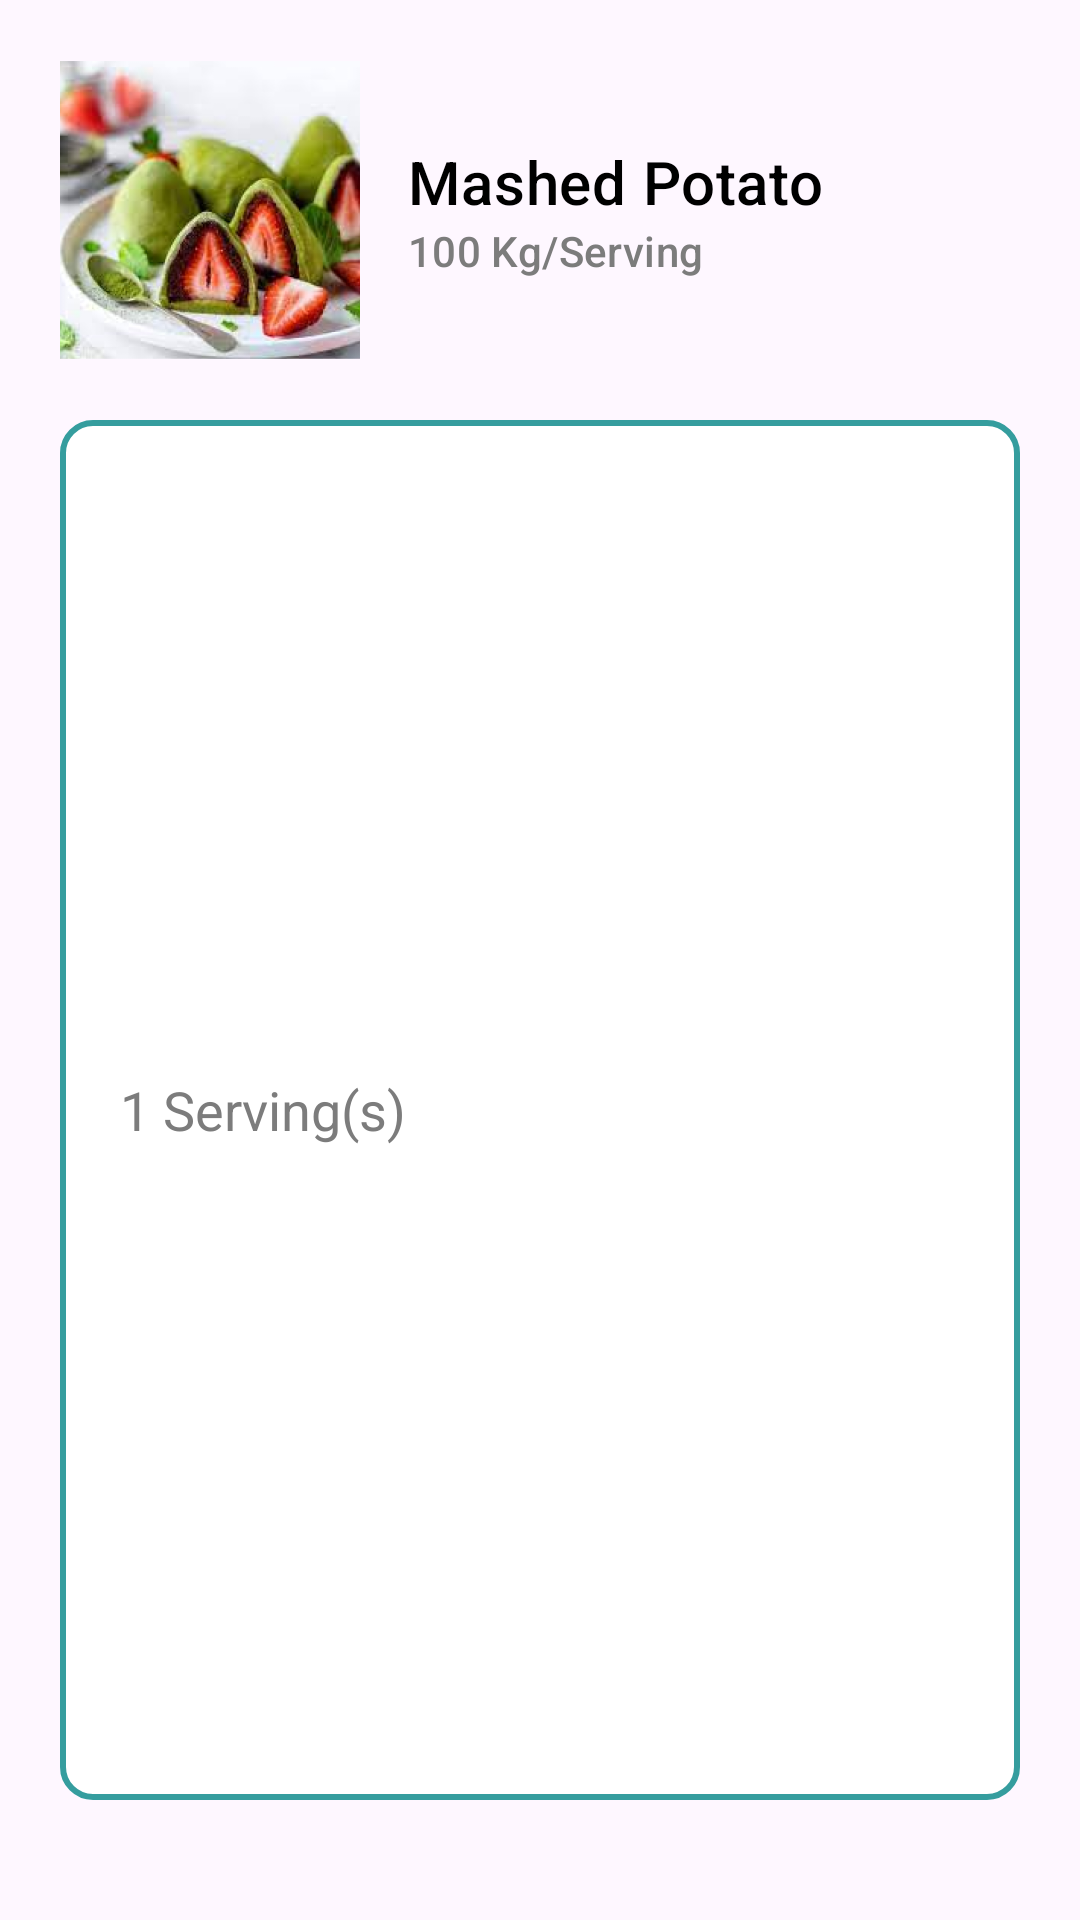

Screen size 1080px×1920px. Icon name, then its center in pixels as point (x, y):
meal: point (210, 210)
